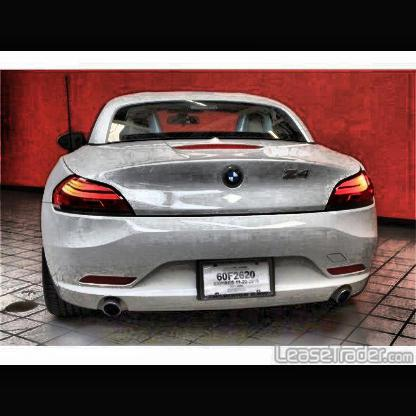BMW Z4 Convertible 2012: (44, 92, 379, 325)
